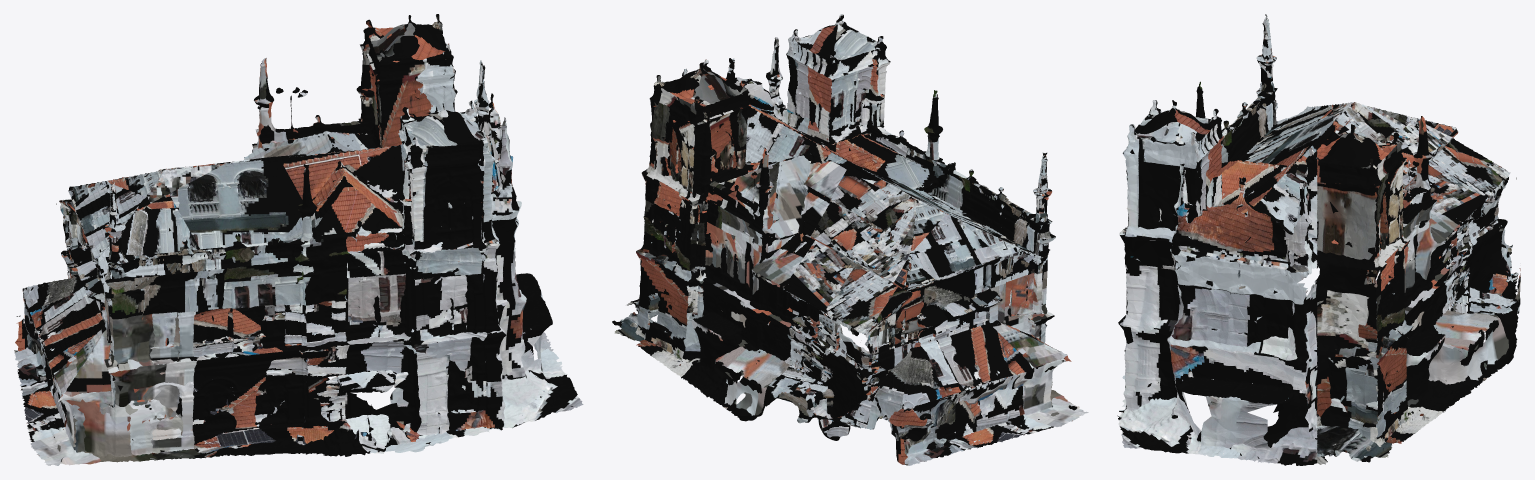
File: content.glb
3 views of the same model, side by side, from view 1: azimuth 30°, elevation 25°; view 2: azimuth 150°, elevation 25°; view 3: azimuth 270°, elevation 25° (orthographic). The views are drawn at different scales.
Parts seen in each view (by area): view 1: church; view 2: church; view 3: church.
Boxes of the visible parts, <box> form: church: <box>14,14,583,465</box>; church: <box>612,14,1088,465</box>; church: <box>1117,14,1520,465</box>.
Bounding box in the file's own units: 32.74 × 20.44 × 24.13.
20 materials, 20 textured.
